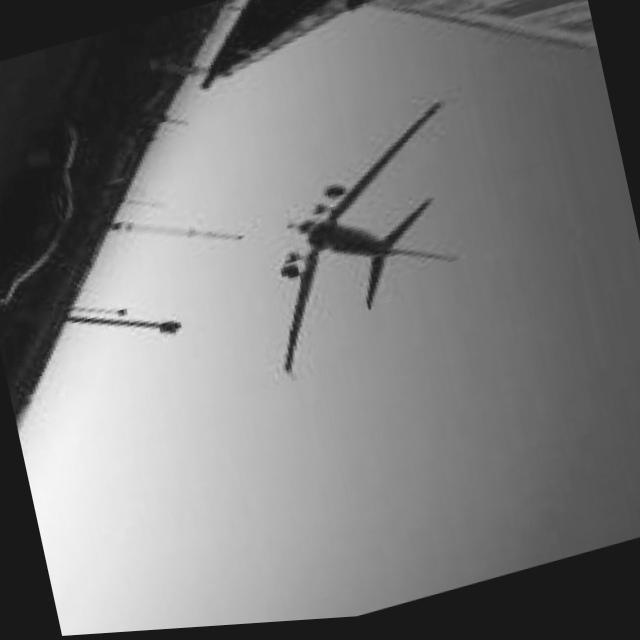aeroplane: (230, 94, 500, 398)
